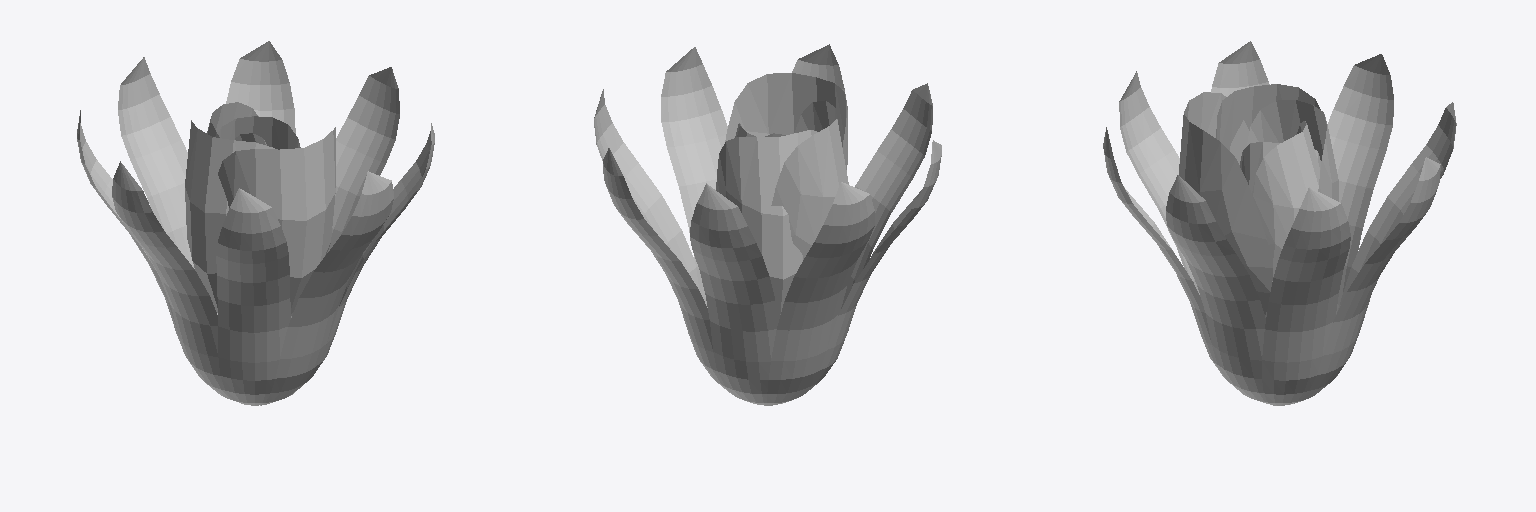
The model's file is FlowerTopModel_03_seq_0021.obj.
3 views of the same model, side by side, from view 1: azimuth 30°, elevation 25°; view 2: azimuth 150°, elevation 25°; view 3: azimuth 270°, elevation 25° (orthographic).
Visible parts, largest first — view 1: FlowerTopModel_03; view 2: FlowerTopModel_03; view 3: FlowerTopModel_03.
Boxes of the visible parts, x1=… form: FlowerTopModel_03: x1=77, y1=41, x2=434, y2=405; FlowerTopModel_03: x1=594, y1=44, x2=941, y2=405; FlowerTopModel_03: x1=1103, y1=41, x2=1456, y2=405.
Size of the model in its own units: 396 by 358 by 396.